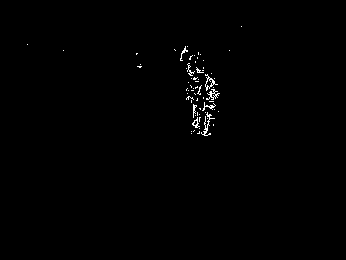person: (196, 65, 220, 137), (186, 63, 202, 135)
